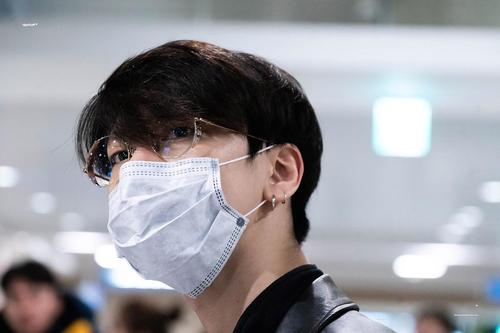mask: (94, 92, 269, 293)
